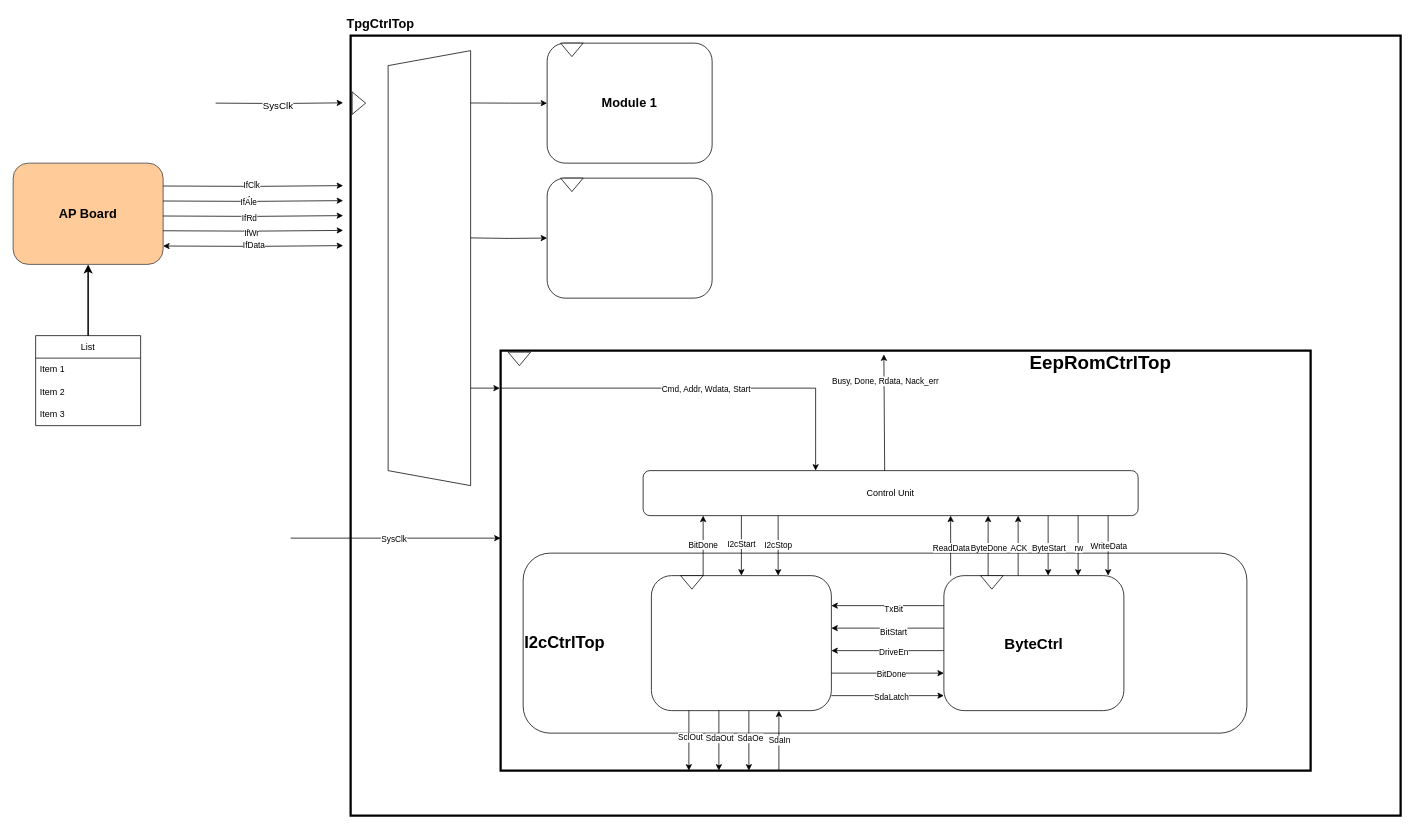
The diagram is 1415 pixels wide and 830 high, and some of its shapes have lost their labels. The box of each missing label's shape, as (x1, y1, x2, y2) in pixels:
BitCtrl: (651, 575, 831, 711)
DECODE: (387, 50, 471, 486)
Module 2: (546, 177, 712, 298)
